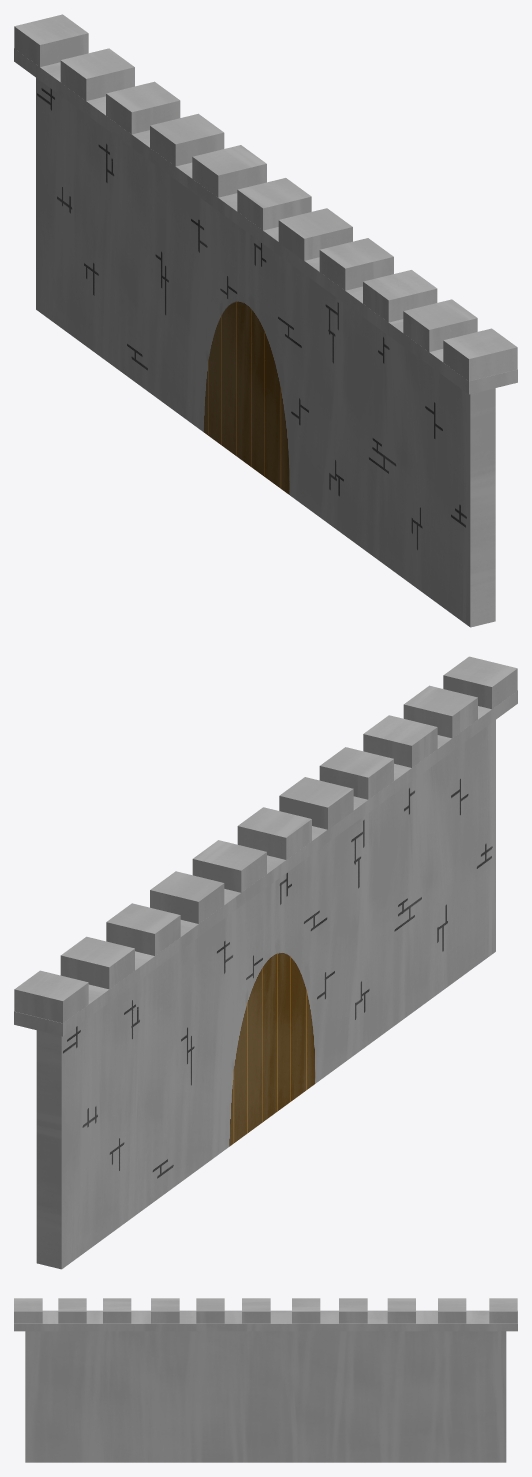
The model's file is EndWall.fbx.
The picture shows the model from 3 angles, top to bottom: view 1: azimuth 30°, elevation 25°; view 2: azimuth 150°, elevation 25°; view 3: azimuth 270°, elevation 25°; orthographic projection. The views are drawn at different scales.
Parts seen in each view (by area): view 1: Cube.013; view 2: Cube.013; view 3: Cube.013.
Boxes of the visible parts, x1,y1,x2,y2 form: Cube.013: (14,14,517,627); Cube.013: (14,656,517,1269); Cube.013: (14,1298,517,1462).
Size of the model in its own units: 392 by 2124 by 6287.
